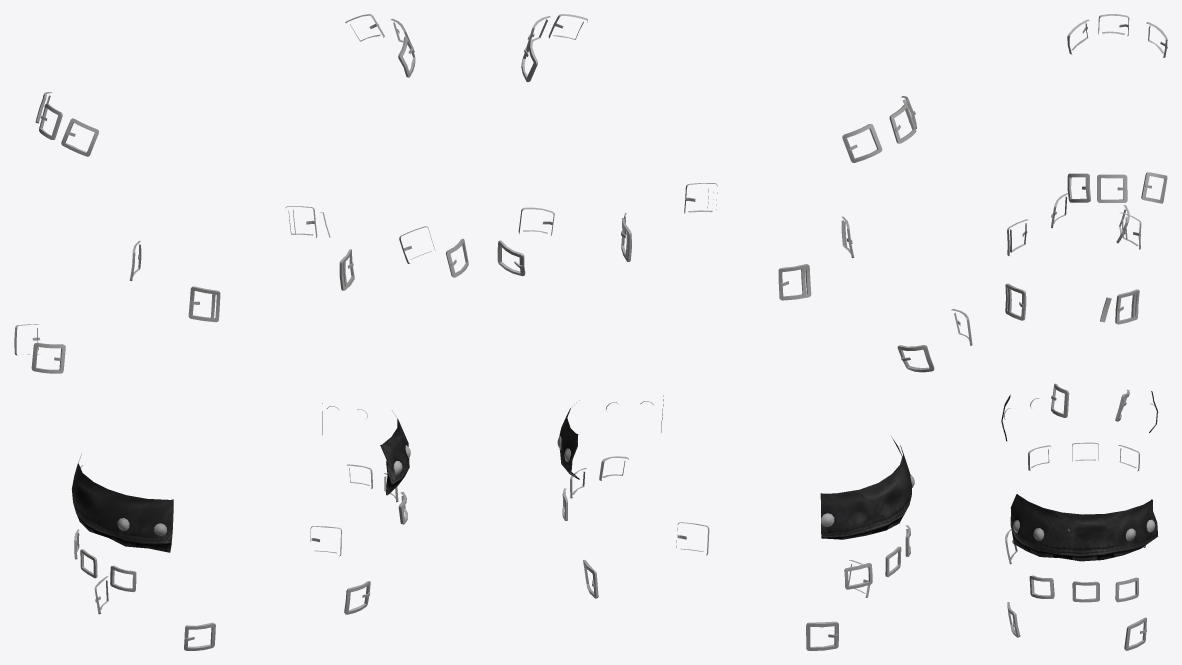
The model's file is aletheia_jumpsuit_hardware_v1.glb.
3 renders of one model, left to right at view 1: azimuth 30°, elevation 25°; view 2: azimuth 150°, elevation 25°; view 3: azimuth 270°, elevation 25°, orthographic. The views are drawn at different scales.
Visible parts, largest first — view 1: pocket_flaps, strap_buckles, belt_buckles, pocket_sliders; view 2: pocket_flaps, strap_buckles, belt_buckles, pocket_sliders; view 3: pocket_flaps, strap_buckles, belt_buckles, pocket_sliders, snaps.
Part boxes in pixels (left/top/right/bottom): pocket_flaps: left=71, top=403, right=409, bottom=552; strap_buckles: left=14, top=14, right=468, bottom=650; belt_buckles: left=129, top=206, right=354, bottom=322; pocket_sliders: left=74, top=464, right=407, bottom=592; pocket_flaps: left=559, top=395, right=911, bottom=539; strap_buckles: left=497, top=14, right=972, bottom=650; belt_buckles: left=621, top=183, right=854, bottom=300; pocket_sliders: left=562, top=456, right=910, bottom=589; pocket_flaps: left=1001, top=391, right=1158, bottom=561; strap_buckles: left=1005, top=14, right=1167, bottom=650; belt_buckles: left=1005, top=212, right=1141, bottom=324; pocket_sliders: left=1028, top=442, right=1139, bottom=602; snaps: left=1003, top=398, right=1158, bottom=540.
Bounding box in the file's own units: 0.6128 × 0.708 × 0.2126.
Materials: 1 (1 with a texture image).
